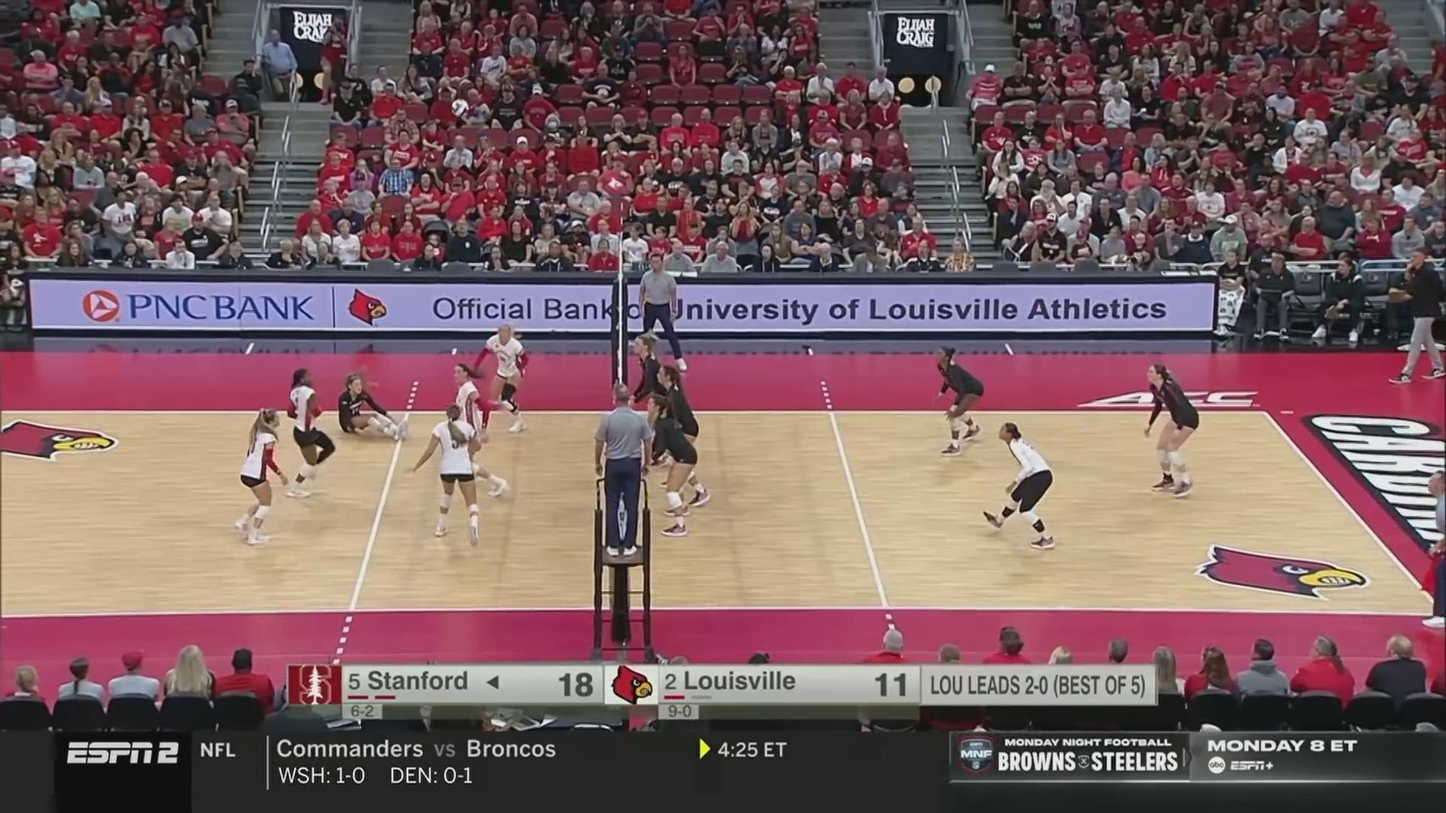player: (979, 424, 1055, 548), (416, 406, 483, 542), (447, 362, 507, 496), (1140, 366, 1200, 499), (656, 367, 710, 507), (646, 394, 699, 535), (235, 409, 287, 545), (285, 367, 336, 497), (472, 324, 530, 435), (634, 335, 681, 467), (932, 347, 985, 453), (337, 370, 409, 440)
refree: (596, 391, 653, 558), (638, 255, 688, 372)
